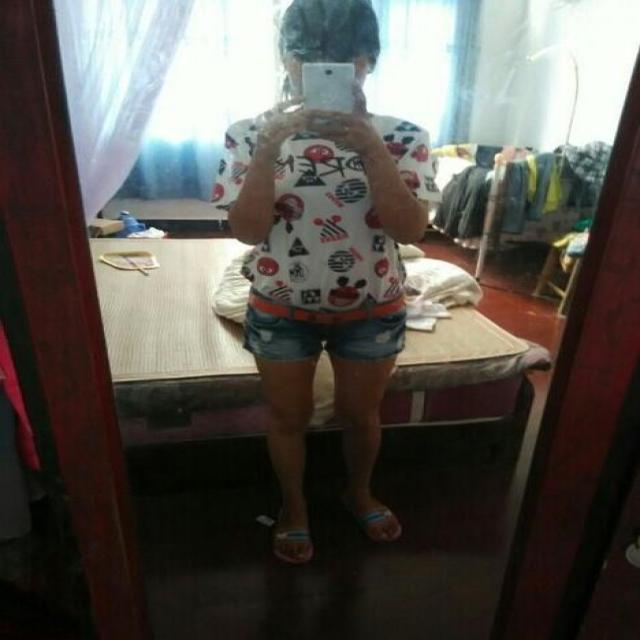short sleeve top: (211, 114, 440, 308)
shorts: (246, 288, 408, 355)
